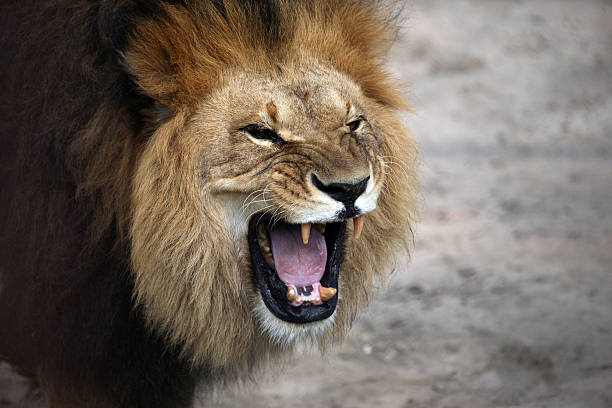lion: (15, 5, 453, 408)
